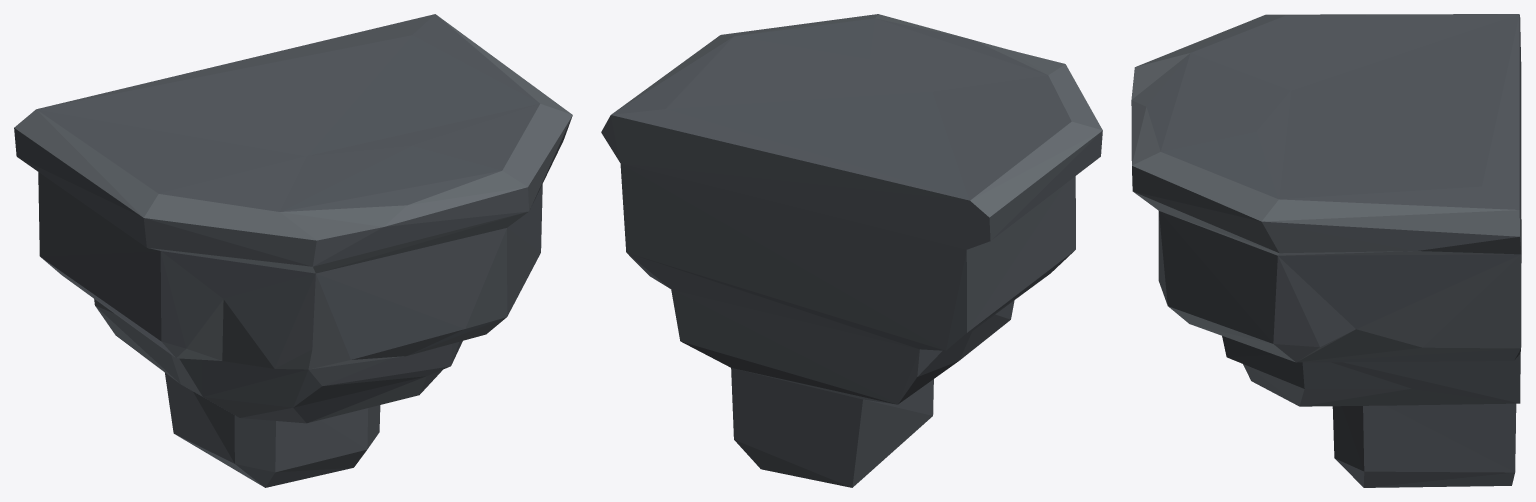
File: MCastle_MasonryFixtures_13.FBX
3 renders of one model, left to right at view 1: azimuth 30°, elevation 25°; view 2: azimuth 150°, elevation 25°; view 3: azimuth 270°, elevation 25°, orthographic. The views are drawn at different scales.
Visible parts, largest first — view 1: MCastle_MasonryFixtures_13_LOD0; view 2: MCastle_MasonryFixtures_13_LOD0; view 3: MCastle_MasonryFixtures_13_LOD0.
Boxes of the visible parts, x1=… form: MCastle_MasonryFixtures_13_LOD0: x1=14, y1=14, x2=572, y2=487; MCastle_MasonryFixtures_13_LOD0: x1=601, y1=14, x2=1102, y2=487; MCastle_MasonryFixtures_13_LOD0: x1=1131, y1=14, x2=1521, y2=487.
Size of what is drawn, in the model's own units: 2.29 by 1.83 by 1.8.
